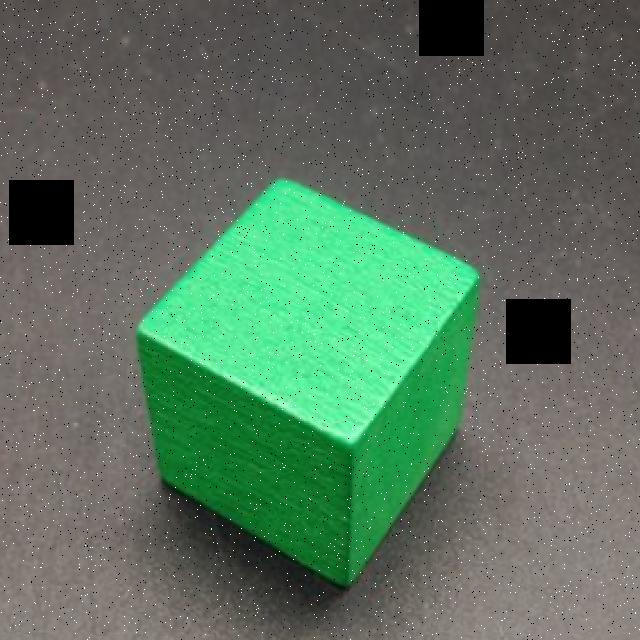green cube: (136, 178, 483, 591)
